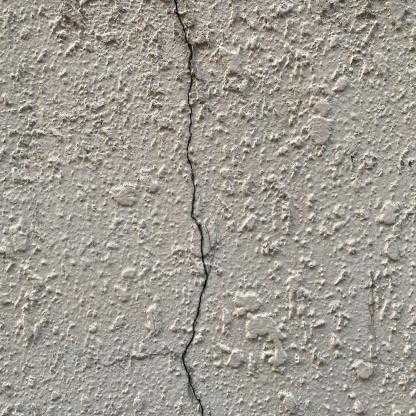crack: (175, 0, 207, 415)
